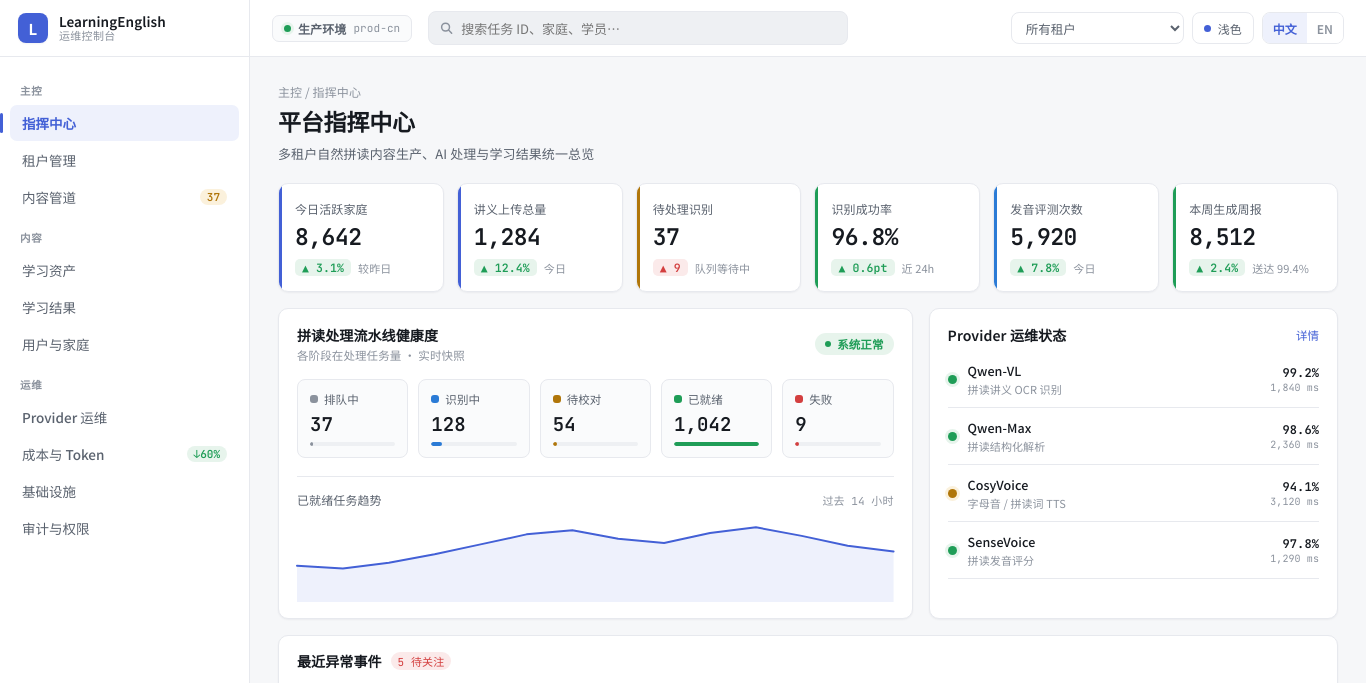
it: theme + language toggles › switches the whole UI to English
This screenshot has width=1366, height=683.
Click the button "EN": [1325, 28] box [1307,13,1343,43]
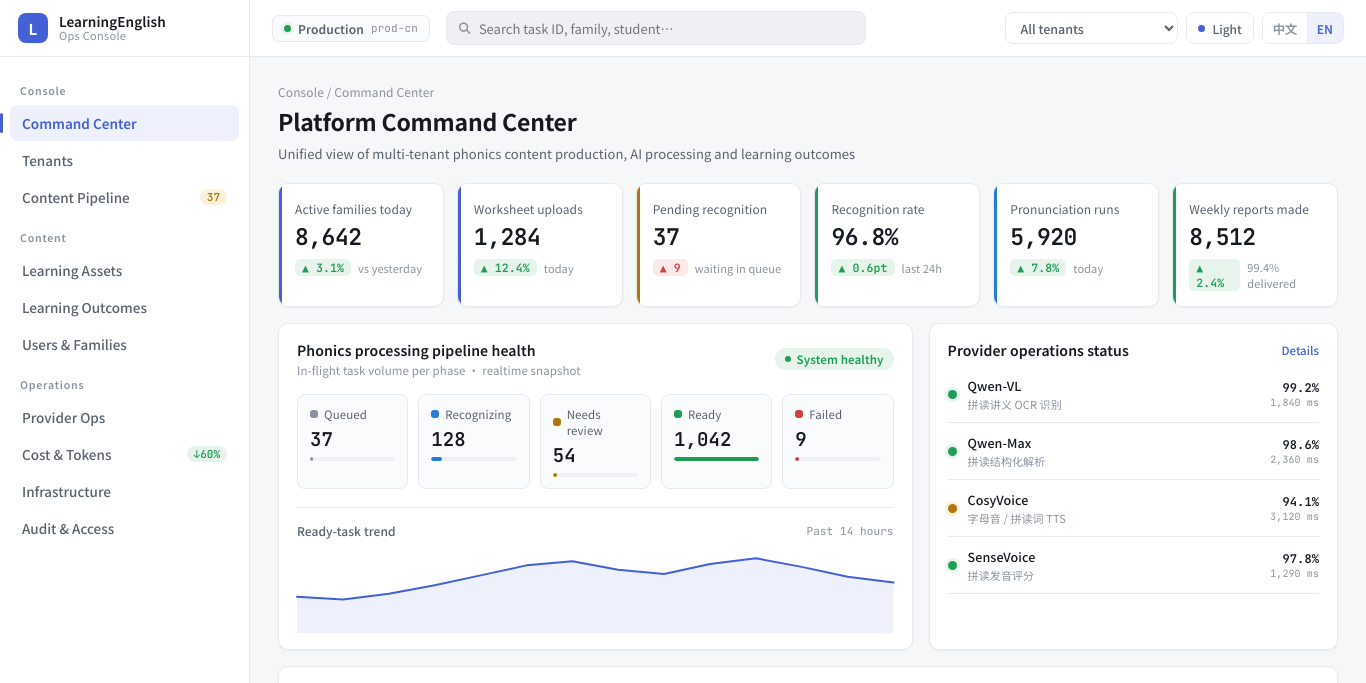
Now the heading "Platform Command Center" is shown, box [278,104,577,138]
Now the button "Command Center" is shown, box [10,105,239,141]
